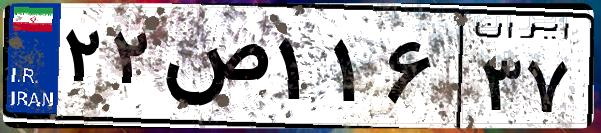1: (270, 28, 330, 110), (330, 28, 385, 110)
2: (57, 26, 110, 100), (110, 28, 158, 98)
3: (475, 38, 525, 113)
6: (385, 28, 445, 110)
7: (525, 38, 570, 115)
ص: (158, 20, 270, 120)
